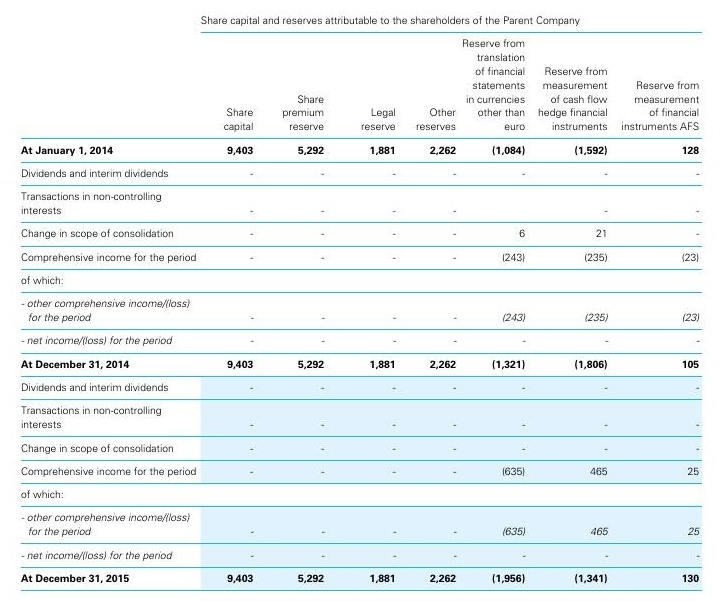table: (0, 0, 725, 601)
